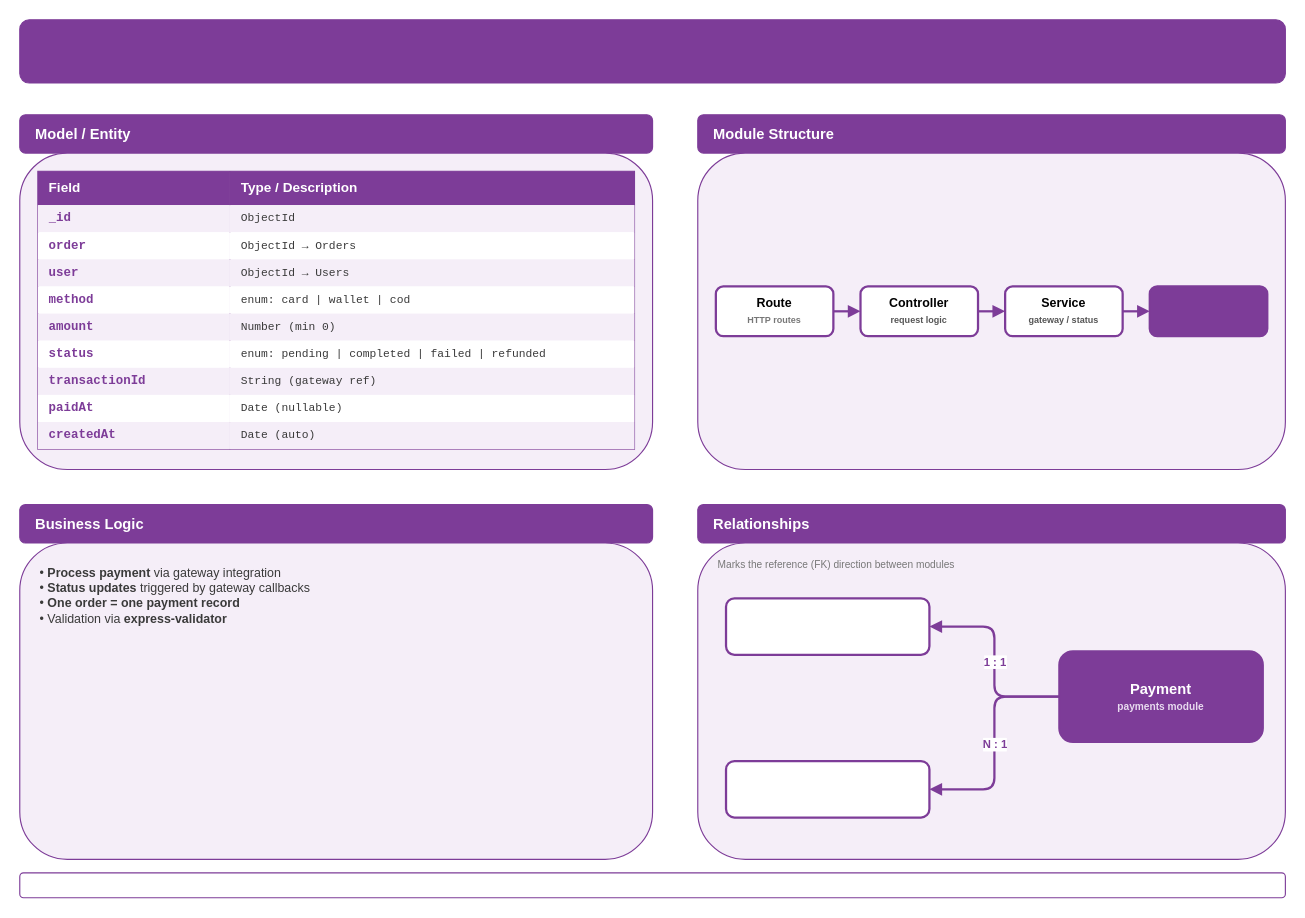
The diagram is 1305 pixels wide and 918 high, and some of its shapes have lost their labels. The shapes that lost their labels are listed below. From the top down, each one's box as (x1, y1, x2, y2) in pixels, then its label:
(19, 19, 1285, 83): Payments Module Payment processing & gateway integration
(1148, 285, 1268, 337): Model Mongoose schema
(724, 597, 930, 655): Orders payment.order ref
(724, 759, 930, 818): Users payment.user ref
(19, 872, 1285, 898): On Store API · Payments Module Overview
